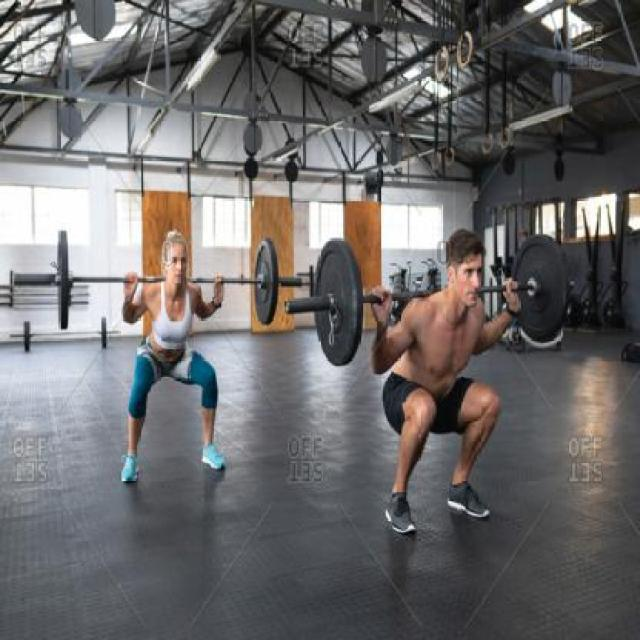barbell: (309, 234, 367, 377), (247, 237, 284, 334)
